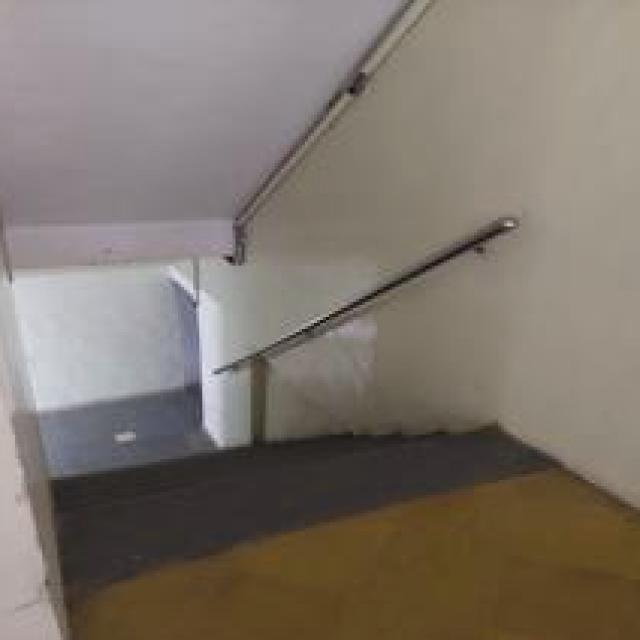downstair: (86, 403, 397, 536)
